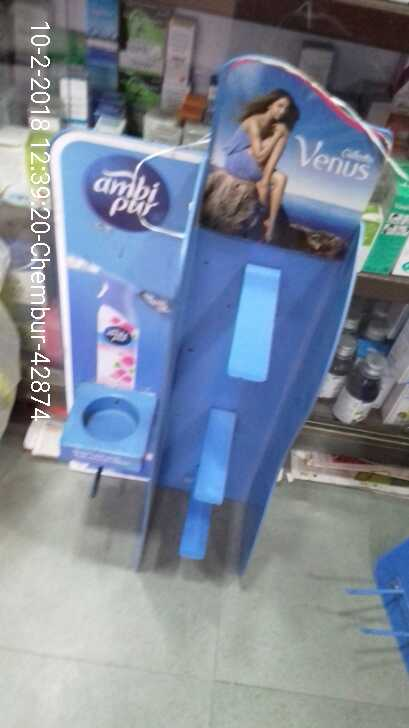reject: (94, 283, 196, 403)
